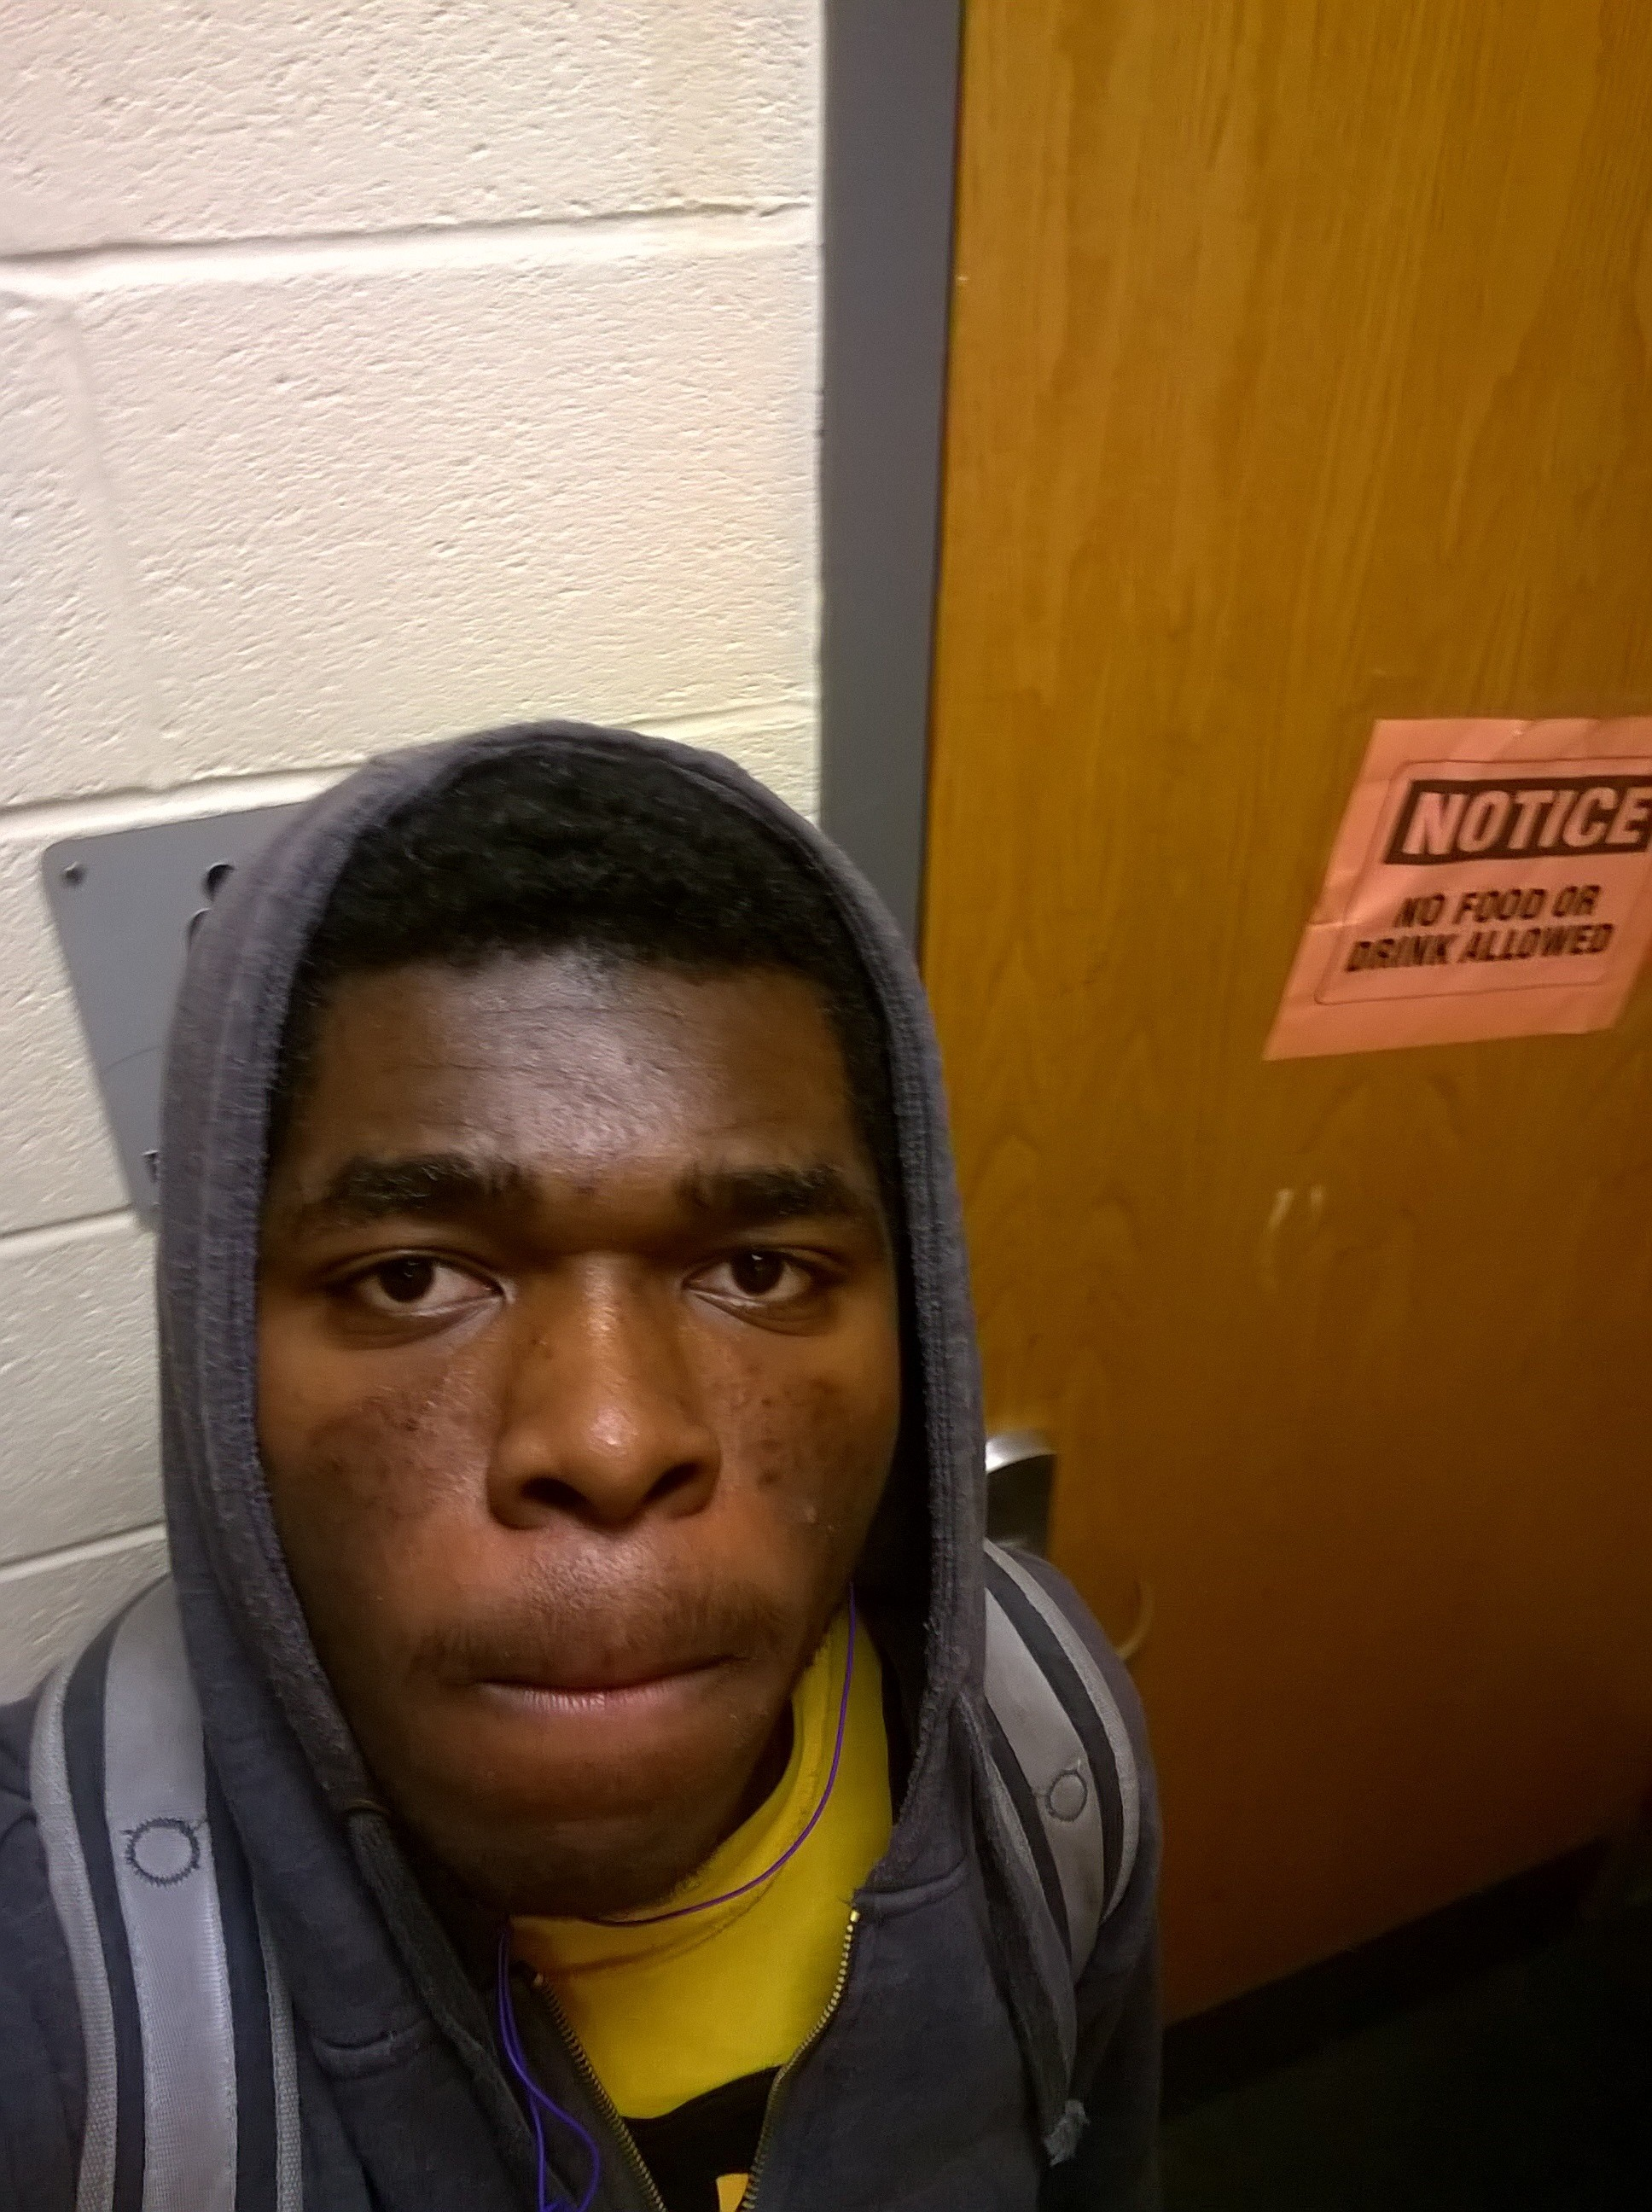face_no_mask: (188, 840, 926, 1947)
